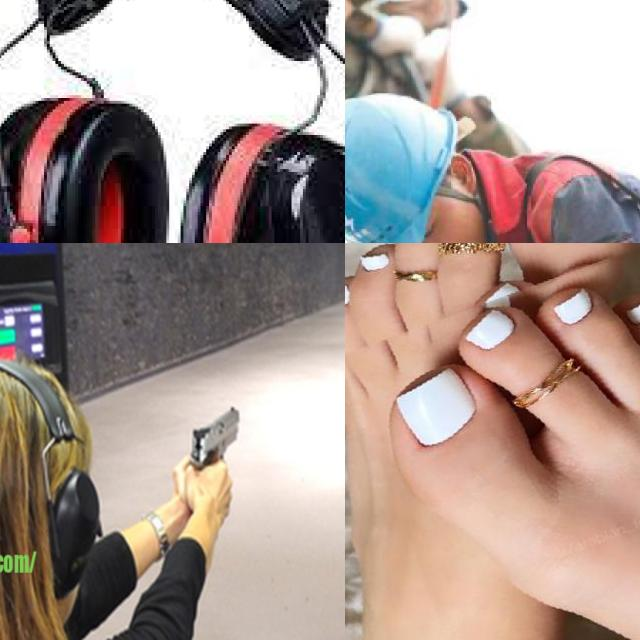Barefoots: (345, 243, 640, 640), (382, 281, 640, 640)
Ear-protection: (0, 0, 345, 243), (0, 363, 103, 640)
No_Ear-Protection: (447, 152, 480, 201)
face_nomask: (433, 222, 485, 243)
head_helmet: (345, 94, 456, 243)
